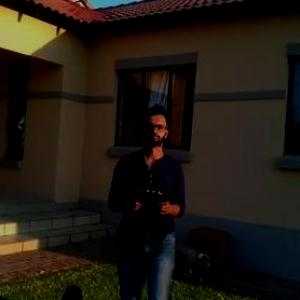follow: (104, 98, 190, 299)
null: (174, 240, 217, 278)
